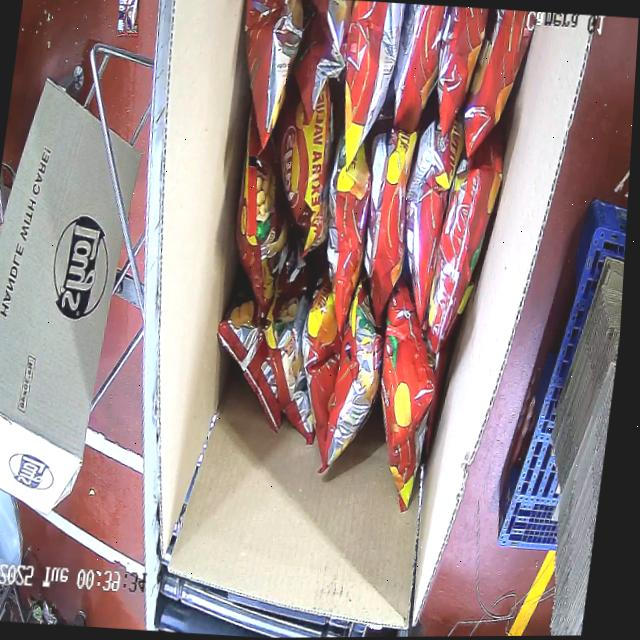MASALA: (178, 0, 538, 515)
